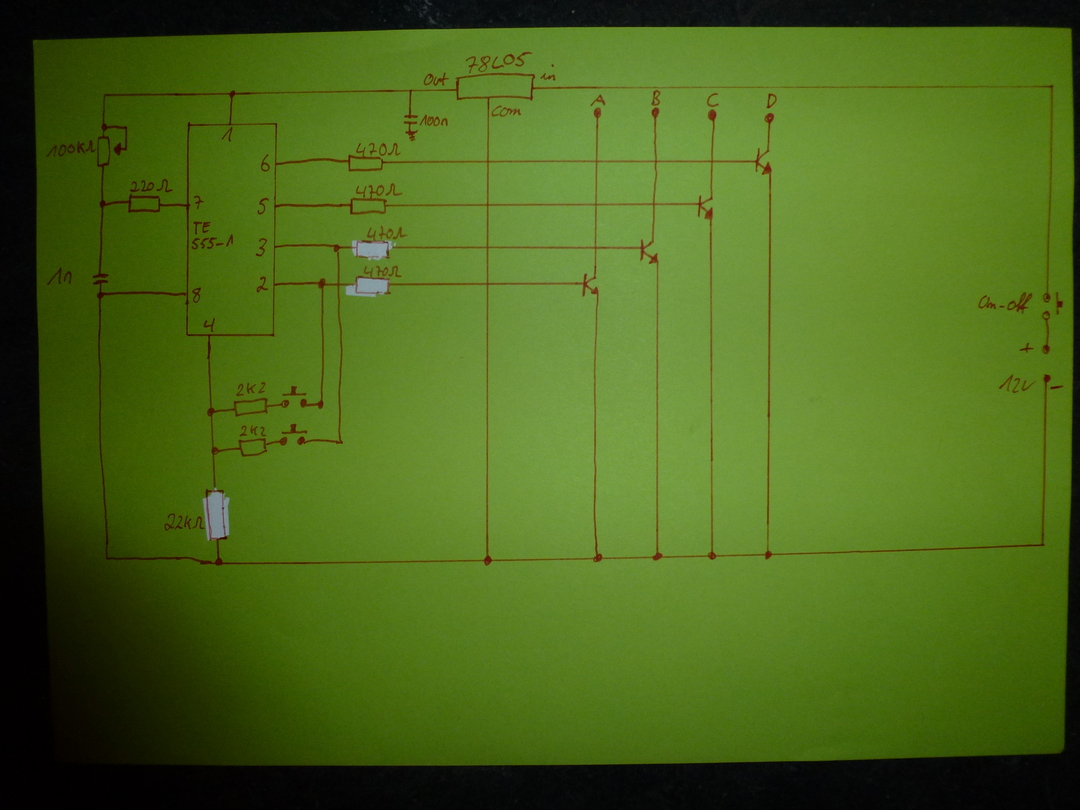capacitor.unpolarized: (91, 272, 110, 286), (402, 113, 419, 126)
crossover: (649, 198, 660, 209), (707, 155, 718, 166), (590, 200, 602, 210), (592, 156, 603, 166), (334, 279, 344, 290), (483, 200, 493, 210), (591, 243, 601, 253), (483, 157, 493, 166), (483, 279, 492, 289), (650, 156, 660, 165), (483, 243, 492, 252)
gnd: (404, 129, 419, 142)
integrated_cricuit.ne555: (183, 120, 279, 339)
junction: (591, 550, 604, 564), (316, 276, 328, 291), (762, 549, 775, 562), (209, 444, 221, 458), (482, 554, 494, 567), (651, 549, 663, 562), (706, 550, 718, 562), (213, 556, 225, 568), (206, 405, 217, 418), (228, 89, 239, 100), (332, 242, 342, 254), (315, 398, 325, 410), (96, 289, 106, 301), (98, 197, 107, 210), (1038, 539, 1048, 550), (1046, 81, 1057, 91), (406, 86, 416, 97), (335, 437, 345, 447), (102, 552, 112, 562), (99, 123, 109, 132), (122, 124, 131, 133), (101, 92, 110, 100)
resistor: (204, 486, 230, 543), (354, 274, 393, 296), (349, 196, 388, 216), (232, 396, 269, 417), (127, 193, 163, 214), (347, 154, 385, 173), (355, 240, 391, 260), (237, 437, 269, 458)
resistor.adjustable: (95, 134, 129, 168)
switch: (279, 384, 309, 411), (279, 422, 309, 447), (1042, 290, 1064, 320)
terminal: (706, 108, 719, 123), (763, 112, 776, 126), (592, 106, 604, 121), (1041, 343, 1052, 356), (651, 106, 661, 120), (1042, 372, 1053, 384)
text: (465, 50, 532, 73), (978, 290, 1033, 316), (190, 220, 235, 250), (46, 139, 95, 158), (163, 511, 205, 531), (998, 373, 1035, 395), (355, 182, 404, 197), (130, 178, 174, 194), (356, 141, 401, 156), (366, 225, 408, 240), (46, 266, 73, 287), (364, 264, 402, 278), (236, 381, 268, 396), (419, 114, 449, 129), (490, 104, 522, 118), (423, 71, 449, 87), (240, 423, 268, 437), (539, 63, 558, 82), (254, 237, 267, 258), (705, 91, 721, 107), (256, 197, 270, 215), (765, 92, 778, 110), (260, 153, 272, 172), (650, 90, 663, 107), (203, 317, 216, 333), (590, 93, 606, 106), (221, 126, 233, 143), (256, 276, 268, 292), (191, 286, 201, 303), (193, 194, 204, 209)
transistor: (754, 146, 776, 176), (639, 237, 660, 265), (697, 192, 715, 221), (581, 272, 601, 297)
voltage.dc_regulator: (453, 71, 536, 104)
